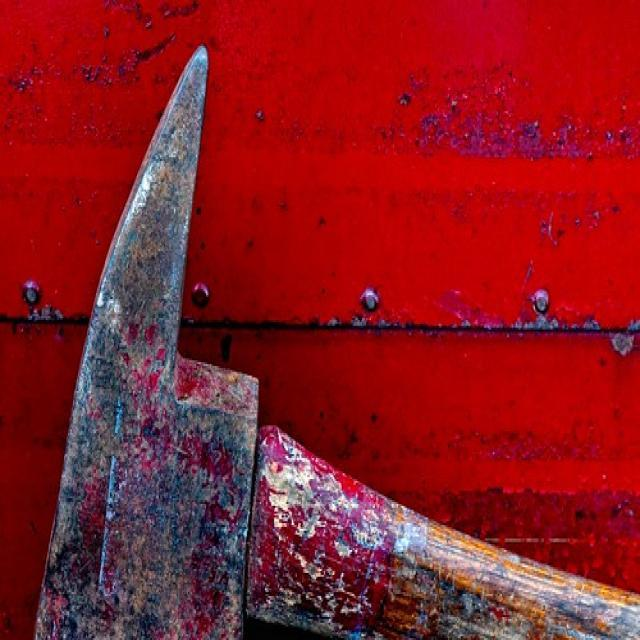Axe: (36, 48, 640, 640)
